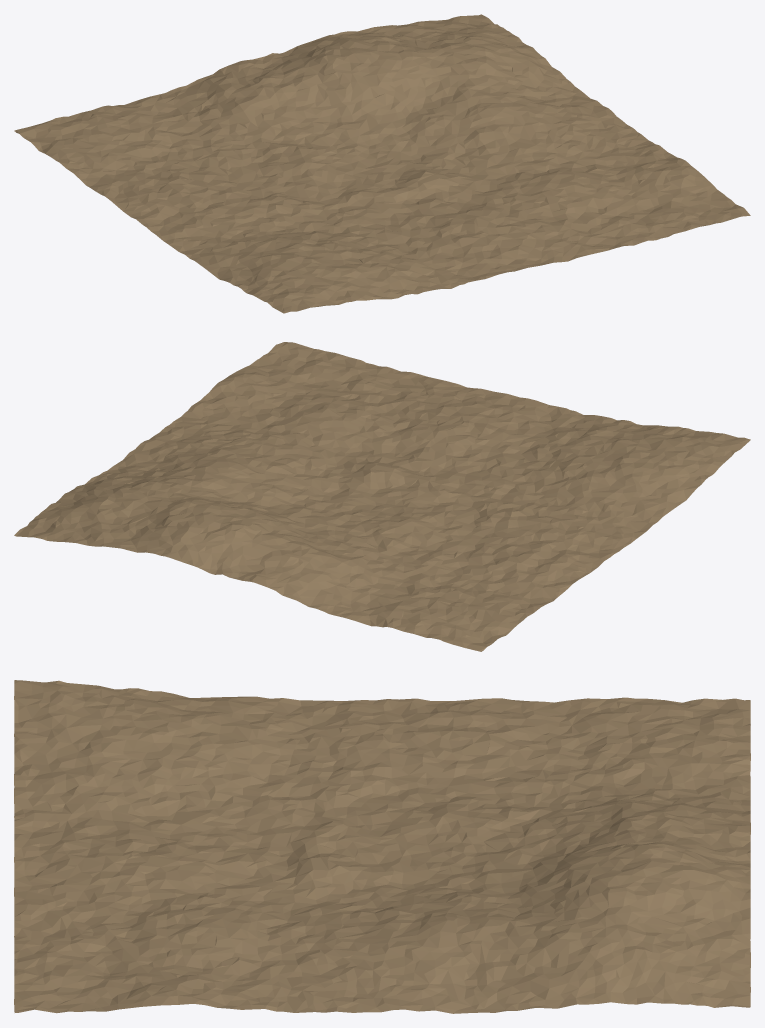
File: SmallGround01.fbx
The picture shows the model from 3 angles, top to bottom: view 1: azimuth 30°, elevation 25°; view 2: azimuth 150°, elevation 25°; view 3: azimuth 270°, elevation 25°; orthographic projection. The views are drawn at different scales.
Visible parts, largest first — view 1: SmallGround01; view 2: SmallGround01; view 3: SmallGround01.
Boxes of the visible parts, x1,y1,x2,y2 form: SmallGround01: (14, 14, 750, 313); SmallGround01: (14, 342, 750, 651); SmallGround01: (14, 680, 750, 1013).
Bounding box in the file's own units: 206 × 14.22 × 205.
